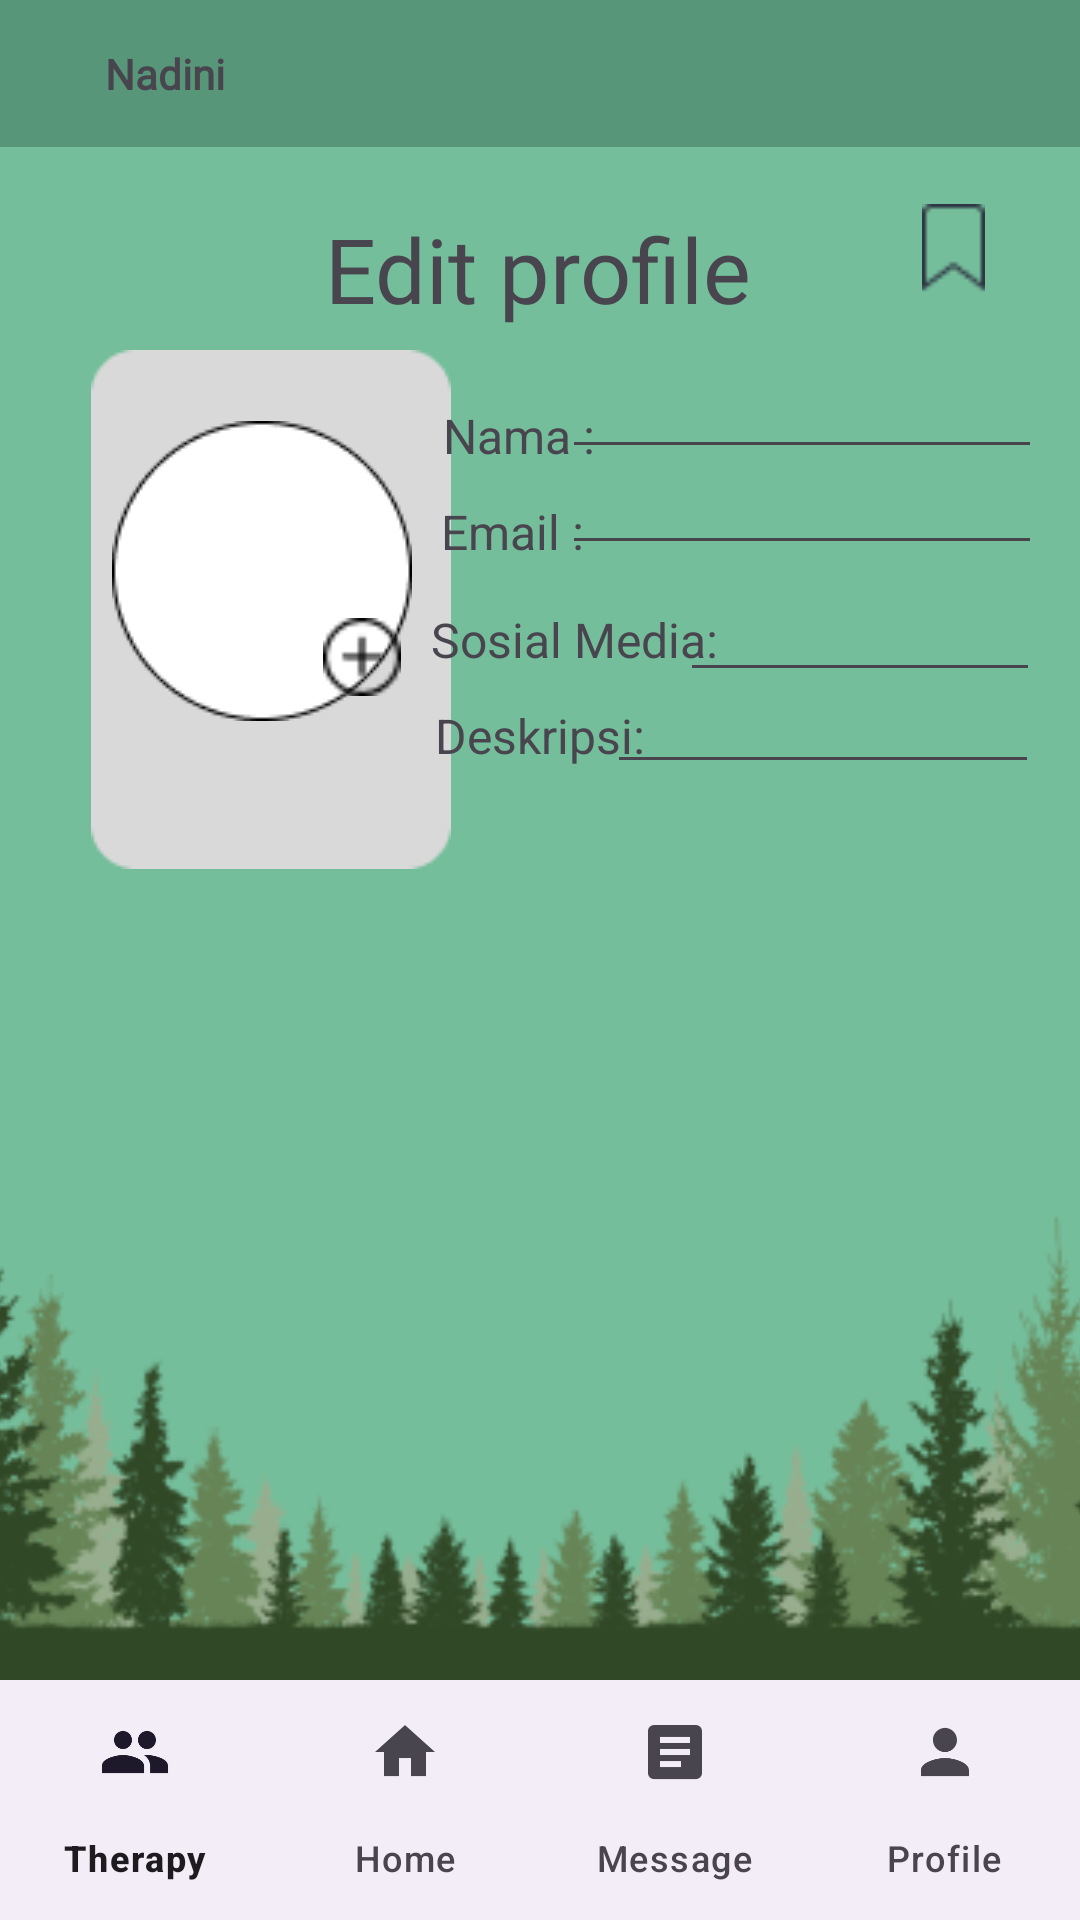

Icons on this 1080px×1920px Android screen, each with its box as (x1, y1, x2, y2):
saveprofile: (922, 204, 985, 291)
